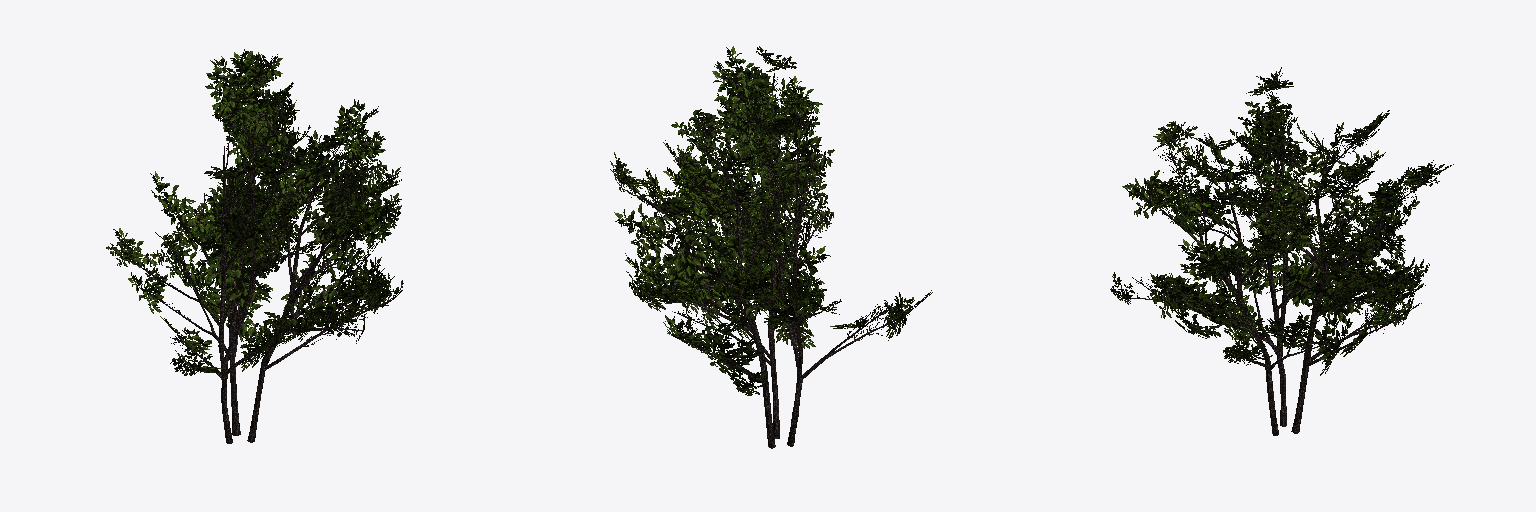
3 renders of one model, left to right at view 1: azimuth 30°, elevation 25°; view 2: azimuth 150°, elevation 25°; view 3: azimuth 270°, elevation 25°, orthographic.
Parts seen in each view (by area): view 1: CommonHazel; view 2: CommonHazel; view 3: CommonHazel.
Part boxes in pixels (x1,y1,x2,y2): CommonHazel: (106,49,403,443); CommonHazel: (610,46,932,448); CommonHazel: (1110,67,1453,435).
Bounding box in the file's own units: 1.47 × 2.11 × 1.84.
Materials: 1 (1 with a texture image).